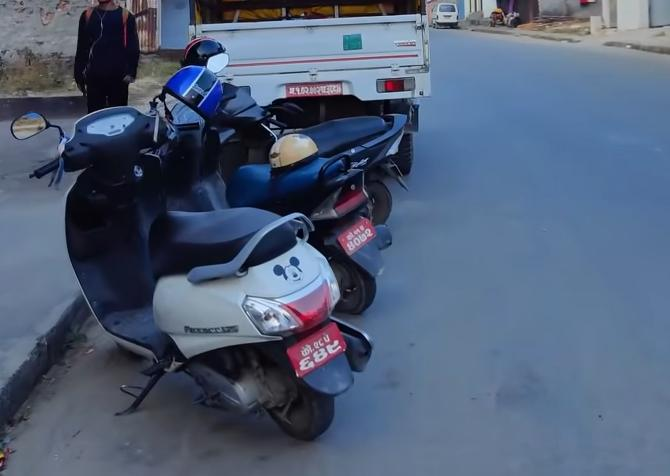scooter: (0, 49, 369, 447)
van: (431, 1, 459, 31)
